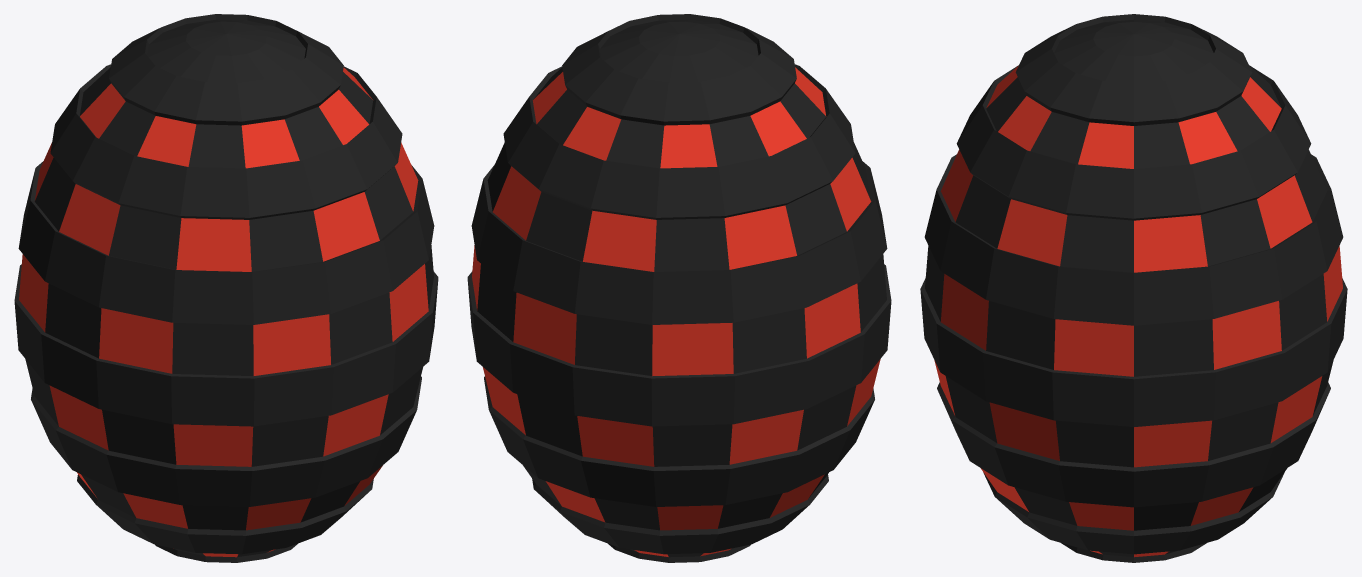
The model's file is granada.fbx.
3 renders of one model, left to right at view 1: azimuth 30°, elevation 25°; view 2: azimuth 150°, elevation 25°; view 3: azimuth 270°, elevation 25°, orthographic.
Visible parts, largest first — view 1: Sphere; view 2: Sphere; view 3: Sphere.
Part boxes in pixels (left/top/right/bottom): Sphere: left=14, top=14, right=438, bottom=562; Sphere: left=467, top=14, right=891, bottom=562; Sphere: left=920, top=14, right=1347, bottom=562.
Size of the model in its own units: 204 by 268 by 204.
